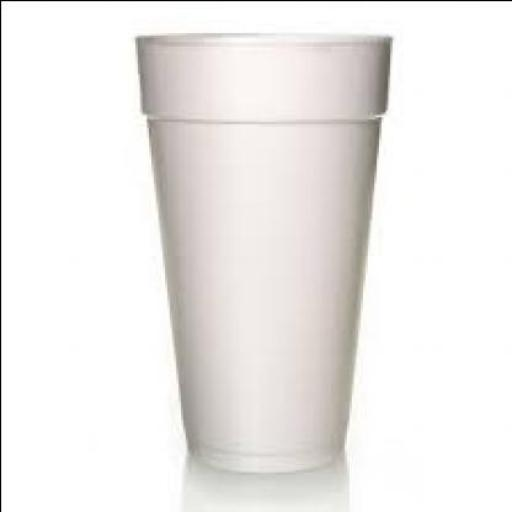paper: (132, 32, 394, 471)
